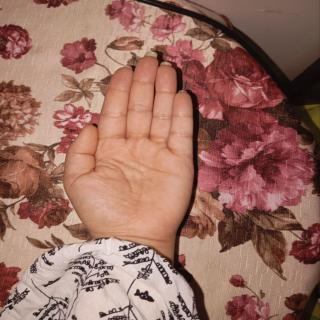SEEN: (52, 41, 209, 267)
